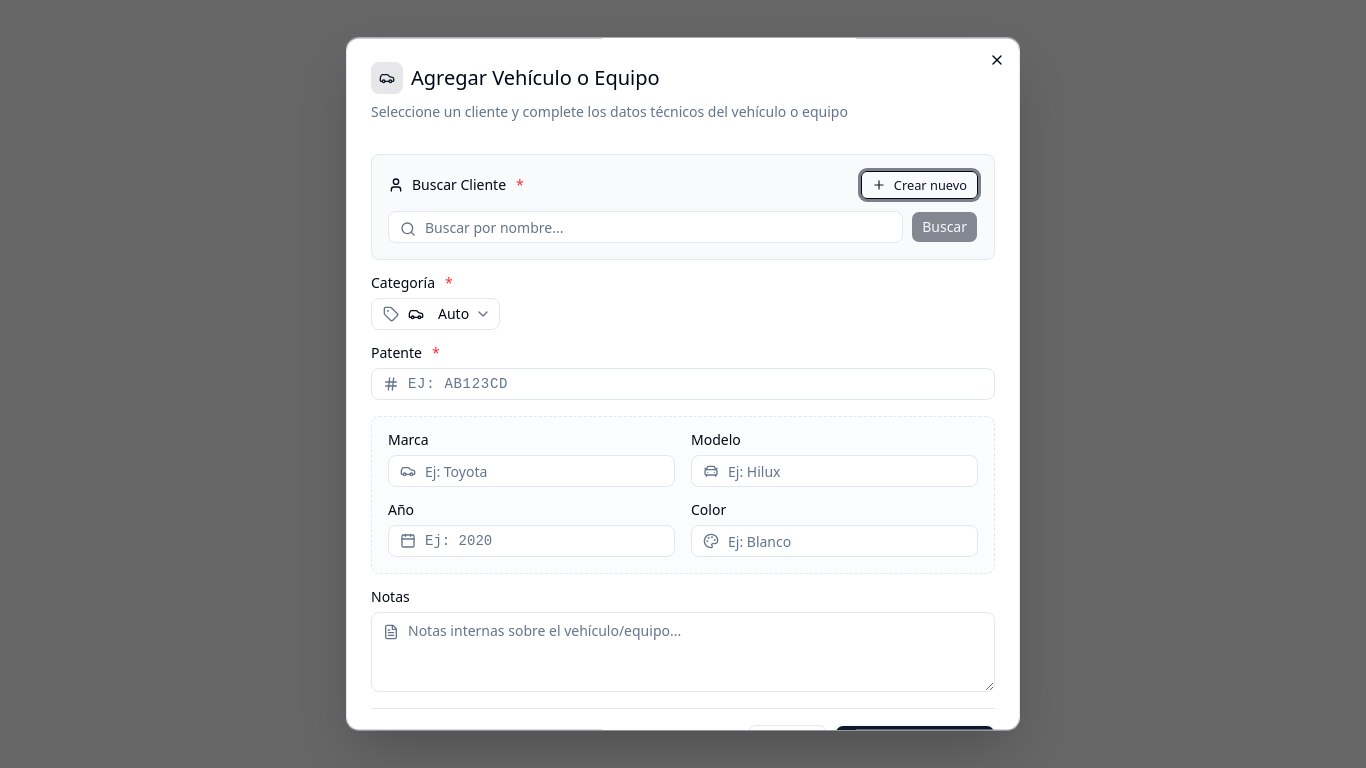
Test: VehicleDialog - Inline Customer Creation with Argentine Phone Validation › should successfully create customer inline when phone is valid, and auto-select them
This screenshot has width=1366, height=768.
Click the button "Crear nuevo" at {"x": 919, "y": 185}, box [861, 171, 978, 199]
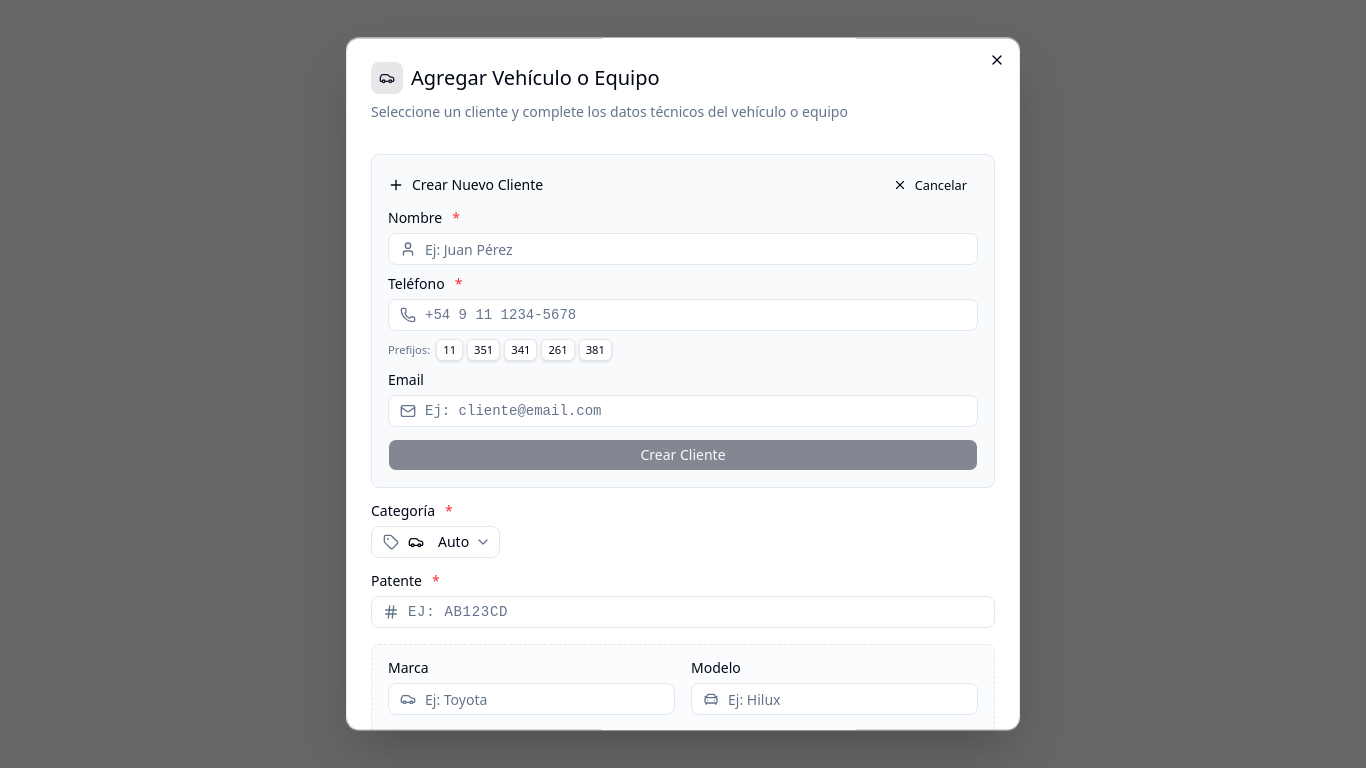
# Fill valid name and valid phone
Type "Juan Pérez" into the field labelled "Nombre *" at {"x": 683, "y": 249}, box [388, 233, 978, 265]
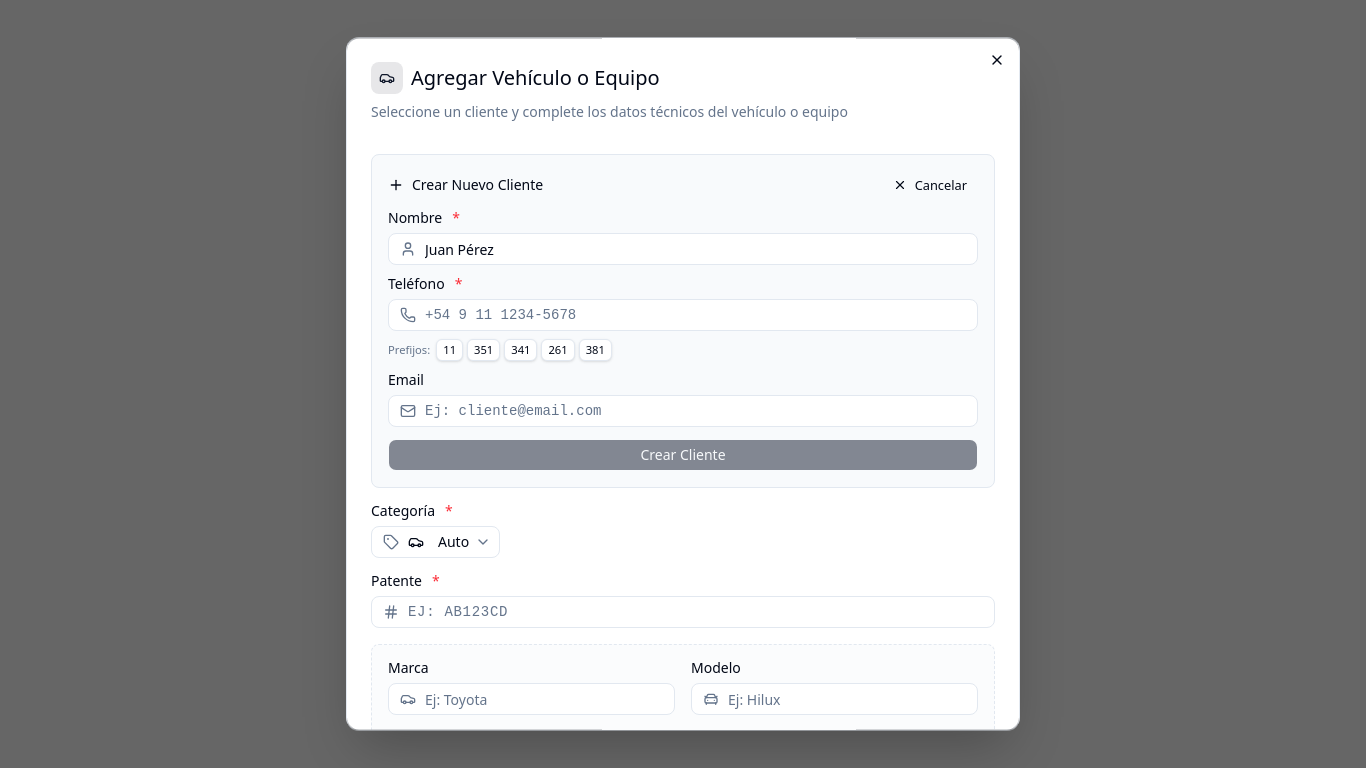
Type "3514445555" into the field labelled "Teléfono *" at {"x": 683, "y": 315}, box [388, 299, 978, 331]
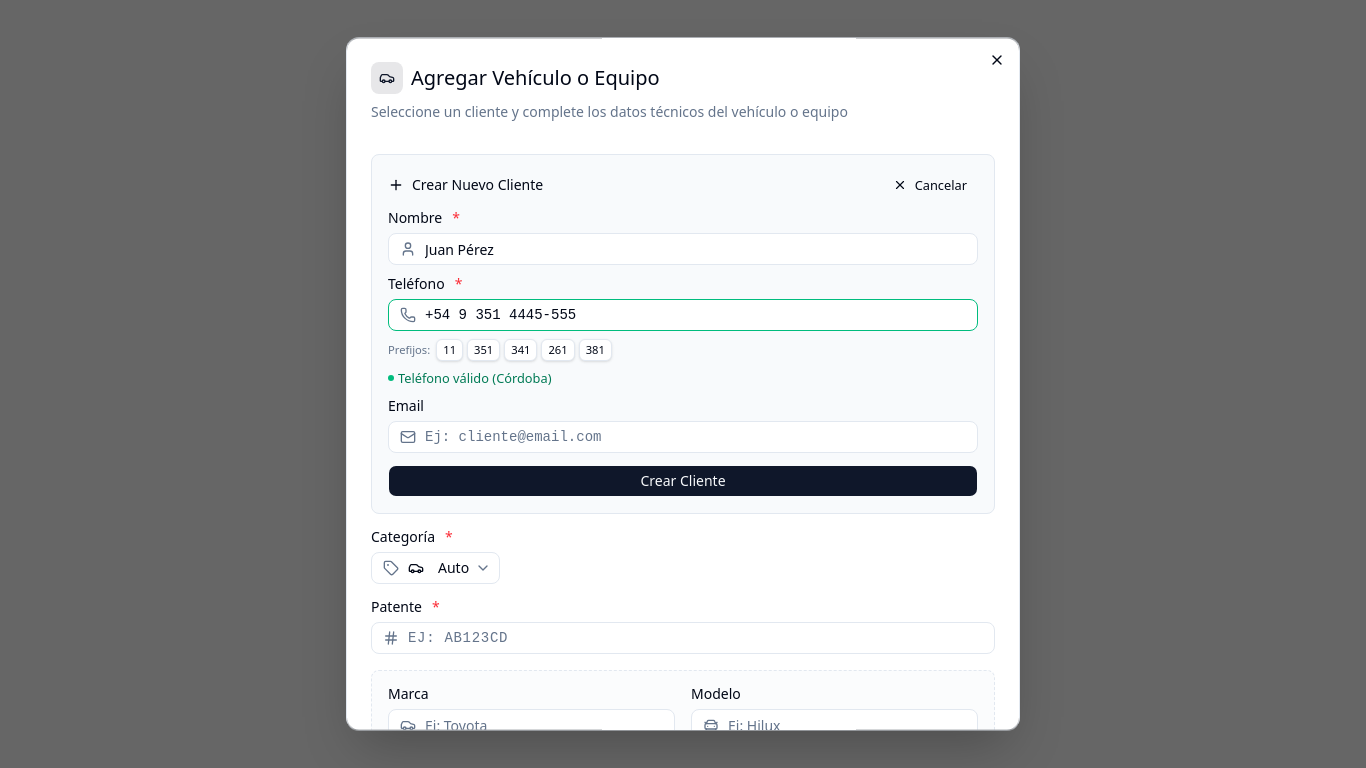
expect the text "Teléfono válido (Córdoba)" is shown: met, box [388, 369, 552, 387]
Click the button "Crear Cliente" at {"x": 683, "y": 482}, box [388, 466, 978, 498]
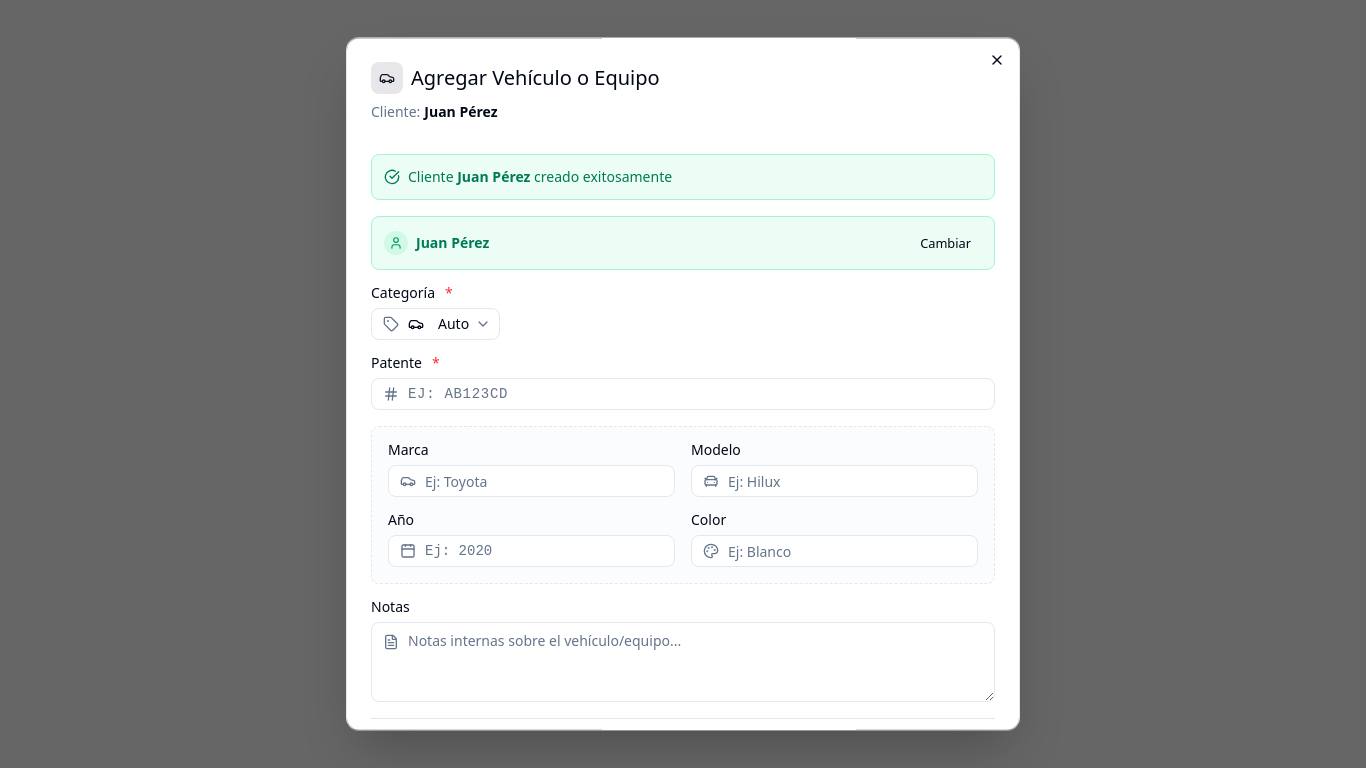
expect the text "Juan Pérez" next to "Cliente:" is shown: met, box [424, 102, 498, 121]
